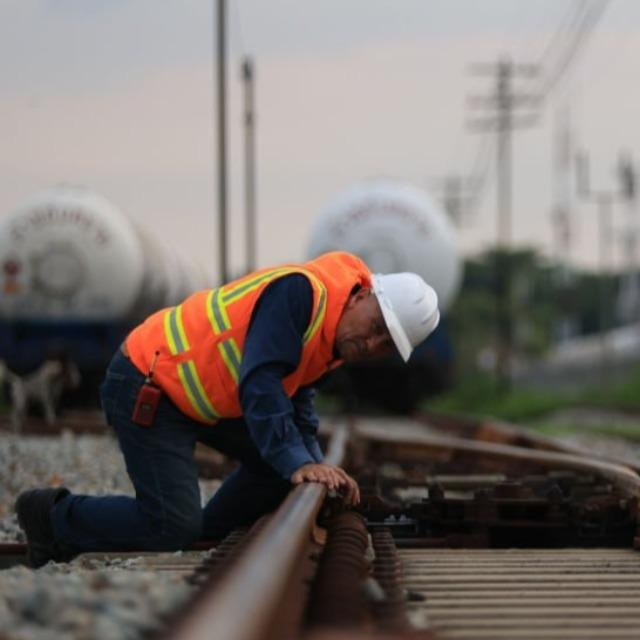Con_Casco: (341, 268, 441, 373)
Con_Chaleco: (136, 254, 361, 414)
